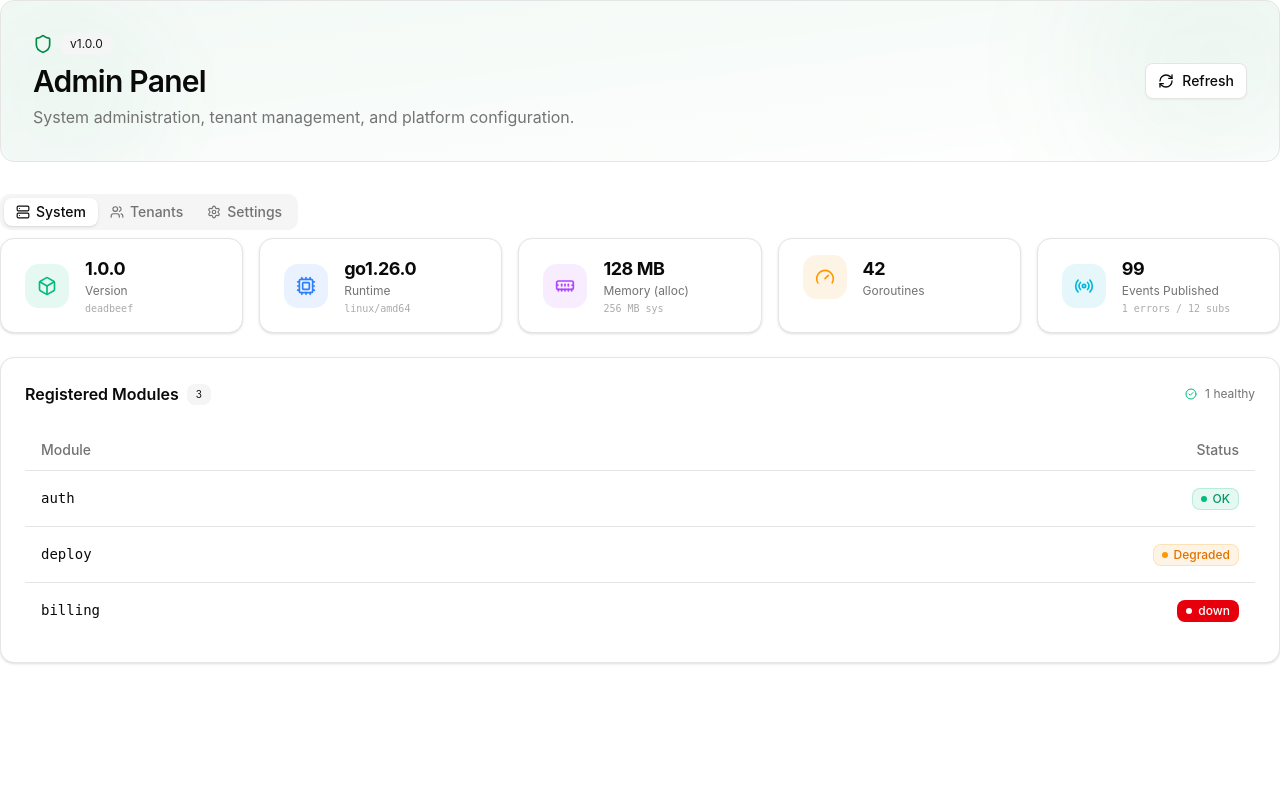
Test case: Admin page › shows the Tenants empty state when the tenant list is empty
Click the tab "Tenants".
click(147, 212)  # box [98,198,195,226]
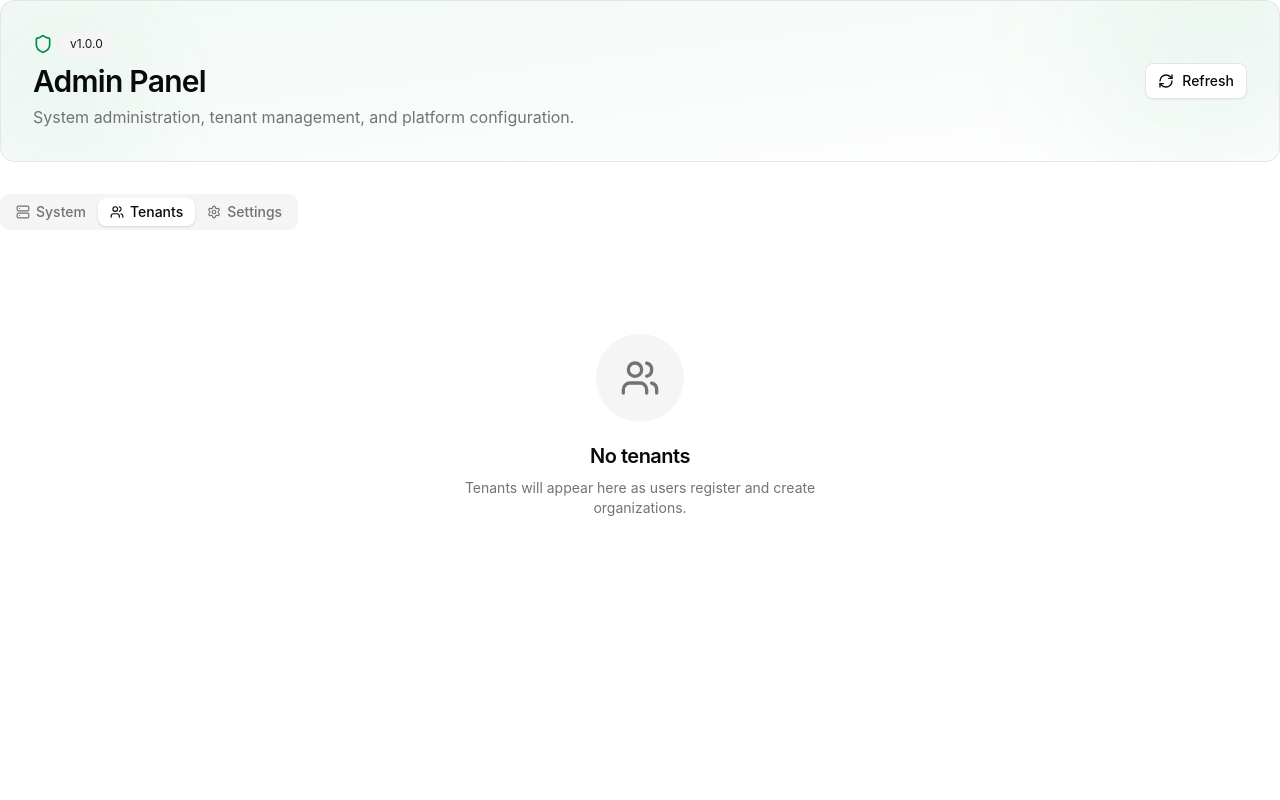
Now the heading "No tenants" is shown, box [590,442,690,470]
